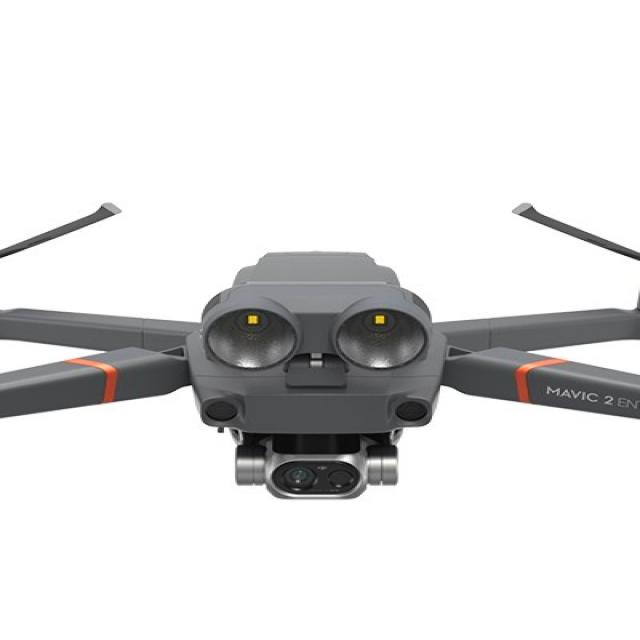drone: (0, 217, 640, 581)
